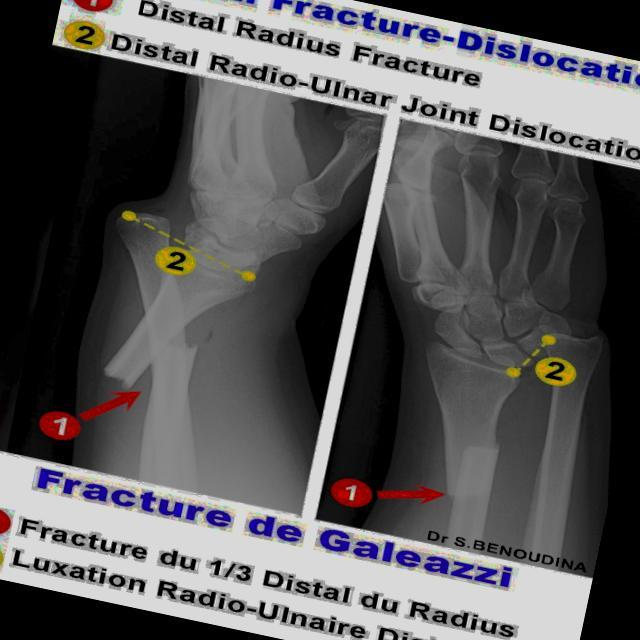Fracture Dislocation: (123, 203, 249, 298), (116, 328, 211, 378), (443, 447, 505, 512), (494, 323, 561, 382)
